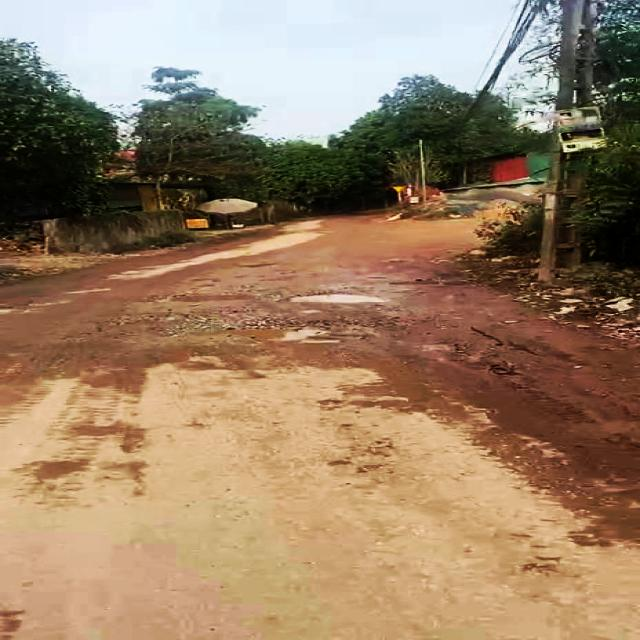pothole: (174, 318, 342, 346), (156, 288, 256, 306), (282, 290, 388, 305)
